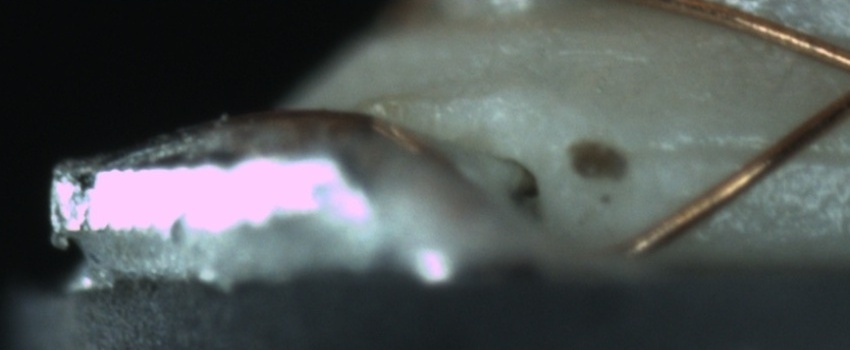DL: (623, 117, 849, 189)
